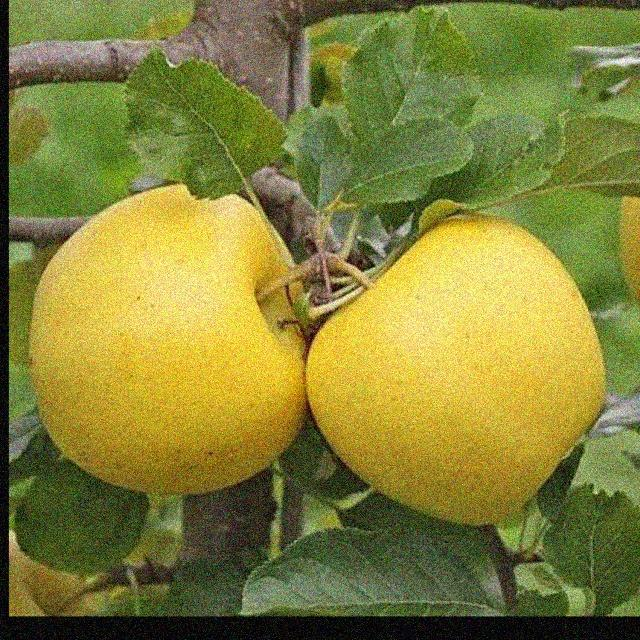green apple: (25, 184, 310, 514), (312, 206, 607, 523)
